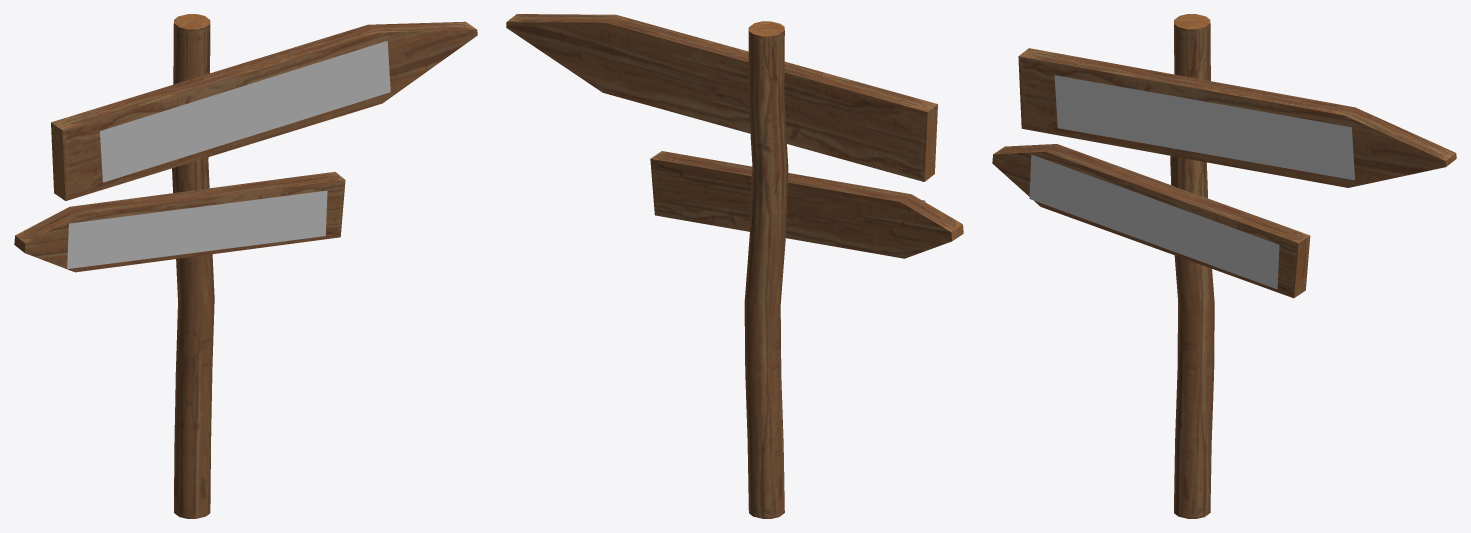
The model's file is SM_Farm_Sign_02.fbx.
The picture shows the model from 3 angles, left to right: view 1: azimuth 30°, elevation 25°; view 2: azimuth 150°, elevation 25°; view 3: azimuth 330°, elevation 25°; orthographic projection.
Parts seen in each view (by area): view 1: SM_Farm_Sign_02_LOD0; view 2: SM_Farm_Sign_02_LOD0; view 3: SM_Farm_Sign_02_LOD0.
Boxes of the visible parts, left/top/right/bottom form: SM_Farm_Sign_02_LOD0: left=14, top=14, right=477, bottom=518; SM_Farm_Sign_02_LOD0: left=506, top=14, right=963, bottom=518; SM_Farm_Sign_02_LOD0: left=992, top=14, right=1456, bottom=518.
Bounding box in the file's own units: 153 × 157 × 19.69.
